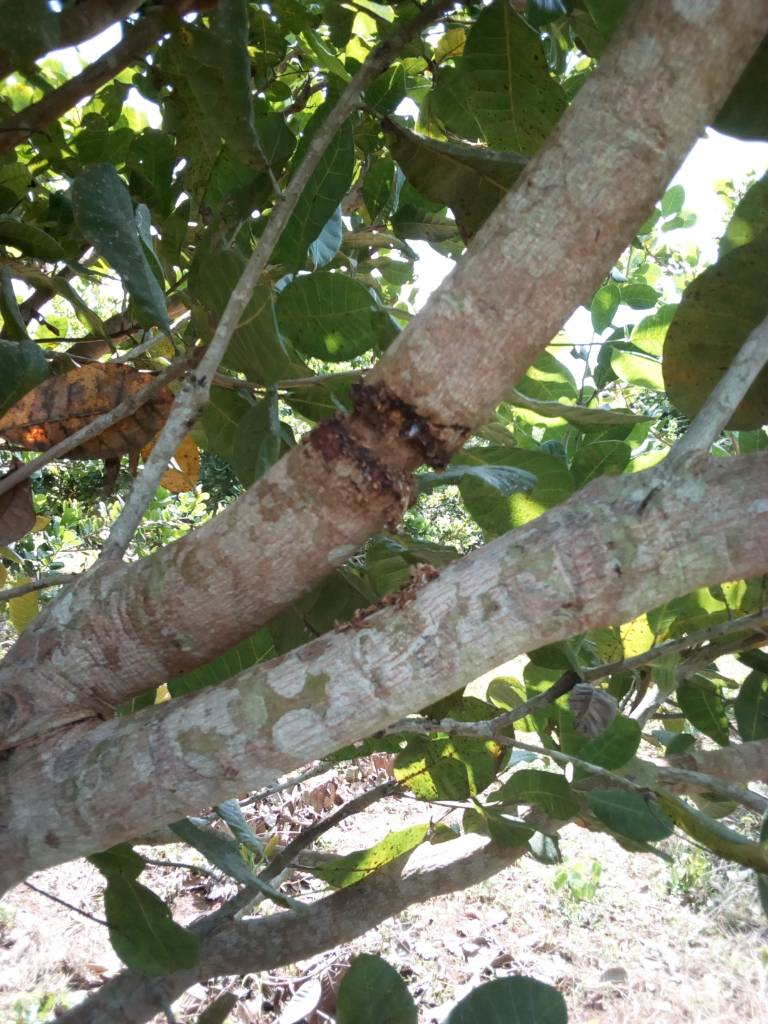Analepse trifasciata: (283, 374, 472, 525)
